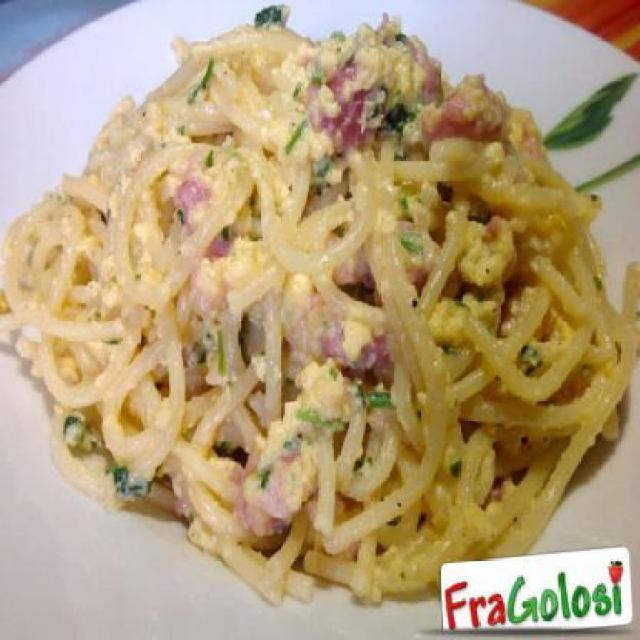Pasta with carbonara sauce: (13, 26, 625, 523)
